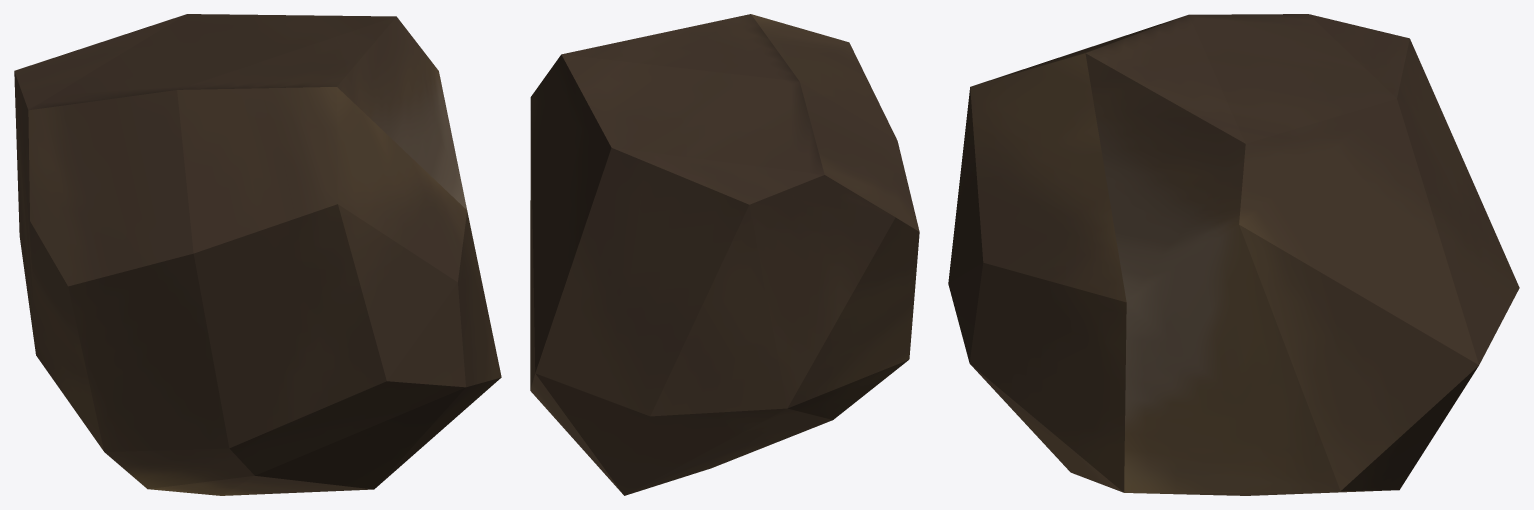
File: Projectile2.FBX
The picture shows the model from 3 angles, left to right: view 1: azimuth 30°, elevation 25°; view 2: azimuth 150°, elevation 25°; view 3: azimuth 270°, elevation 25°; orthographic projection. The views are drawn at different scales.
Parts seen in each view (by area): view 1: Projectile2; view 2: Projectile2; view 3: Projectile2.
Part boxes in pixels (box(x1,y1,x2,y2)): Projectile2: box(14, 14, 501, 495); Projectile2: box(530, 14, 919, 495); Projectile2: box(948, 14, 1519, 495).
Bounding box in the file's own units: 0.4427 × 0.4613 × 0.5195.
